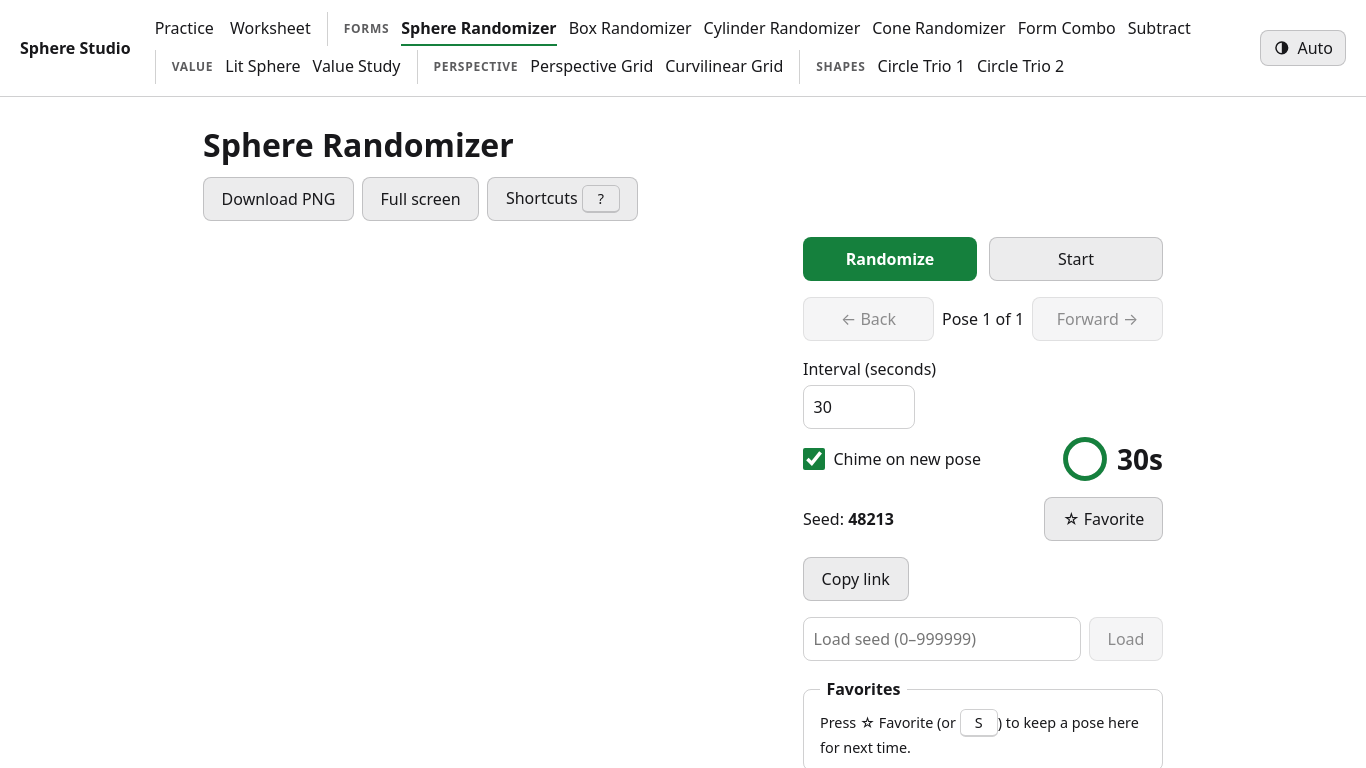
Scenario: pose history › goes back and forward on sphere-randomizer
The width and height of the screenshot is (1366, 768).
Expected: the button "← Back" is disabled, [803,297,934,341]
Expected: the button "Forward →" is disabled, [1032,297,1163,341]
Click the button "Randomize".
click(890, 259)  # box [803,237,977,281]
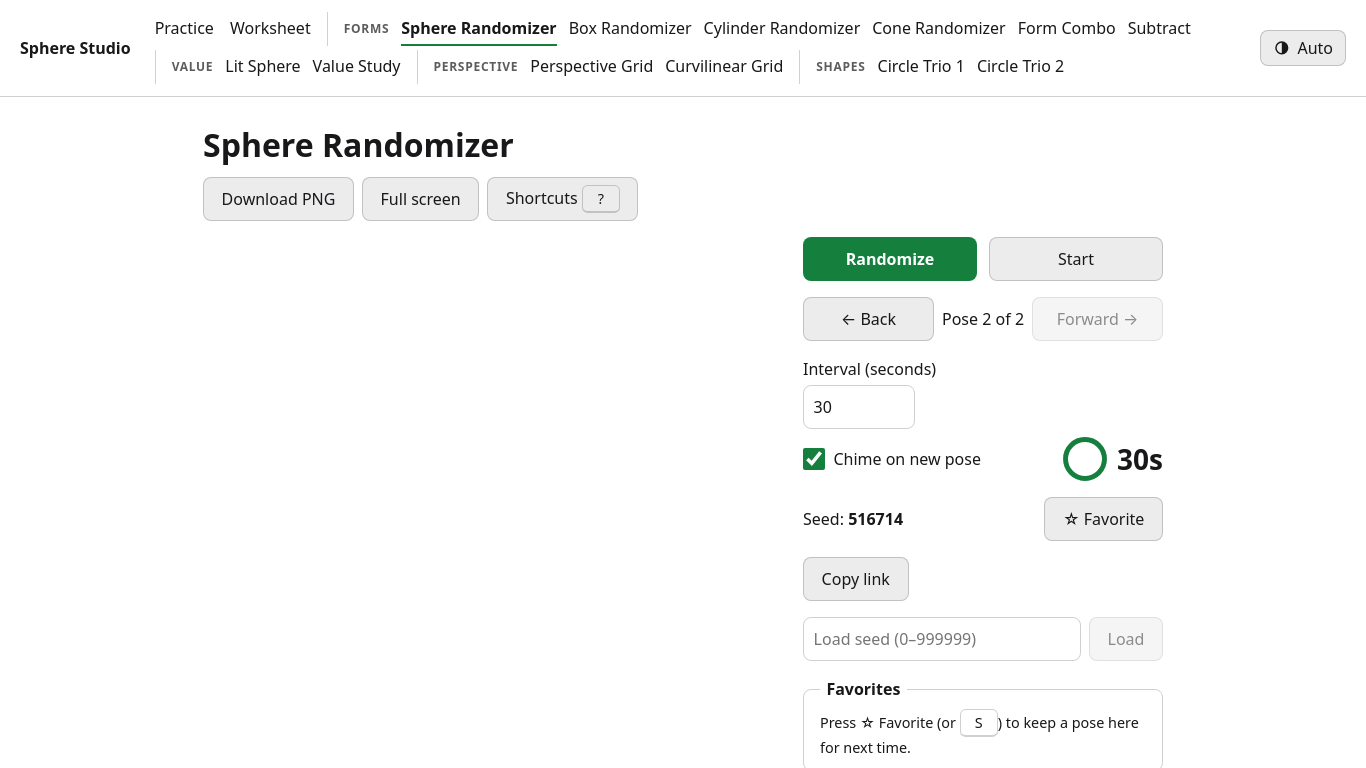
Now the text with class "session-history-position" reads "Pose 2 of 2", box [942,307,1024,331]
Click the button "← Back".
click(868, 319)  # box [803,297,934,341]
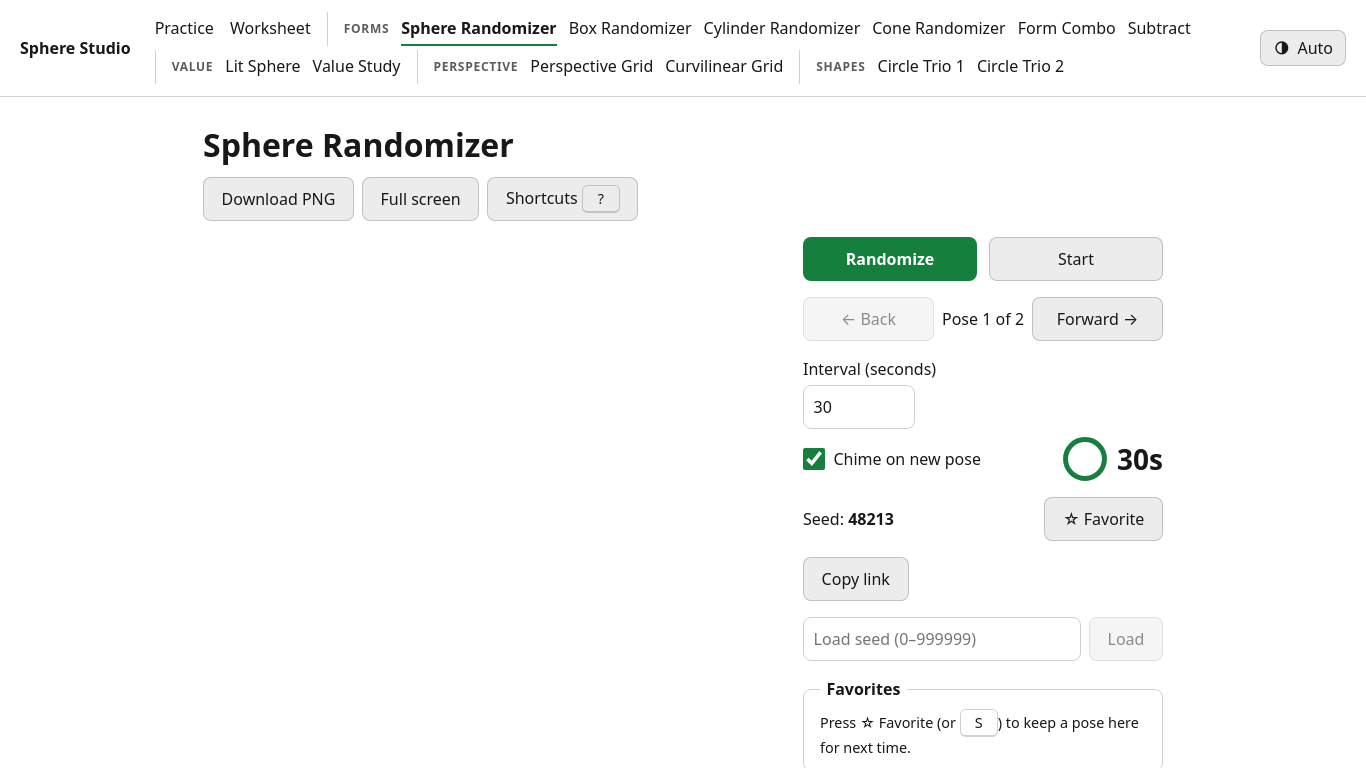
Now the text "Seed: 48213" is shown, box [803,507,894,531]
Now the text with class "session-history-position" reads "Pose 1 of 2", box [942,307,1024,331]
Now the button "← Back" is disabled, box [803,297,934,341]
Click the button "Forward →".
click(1098, 319)  # box [1032,297,1163,341]
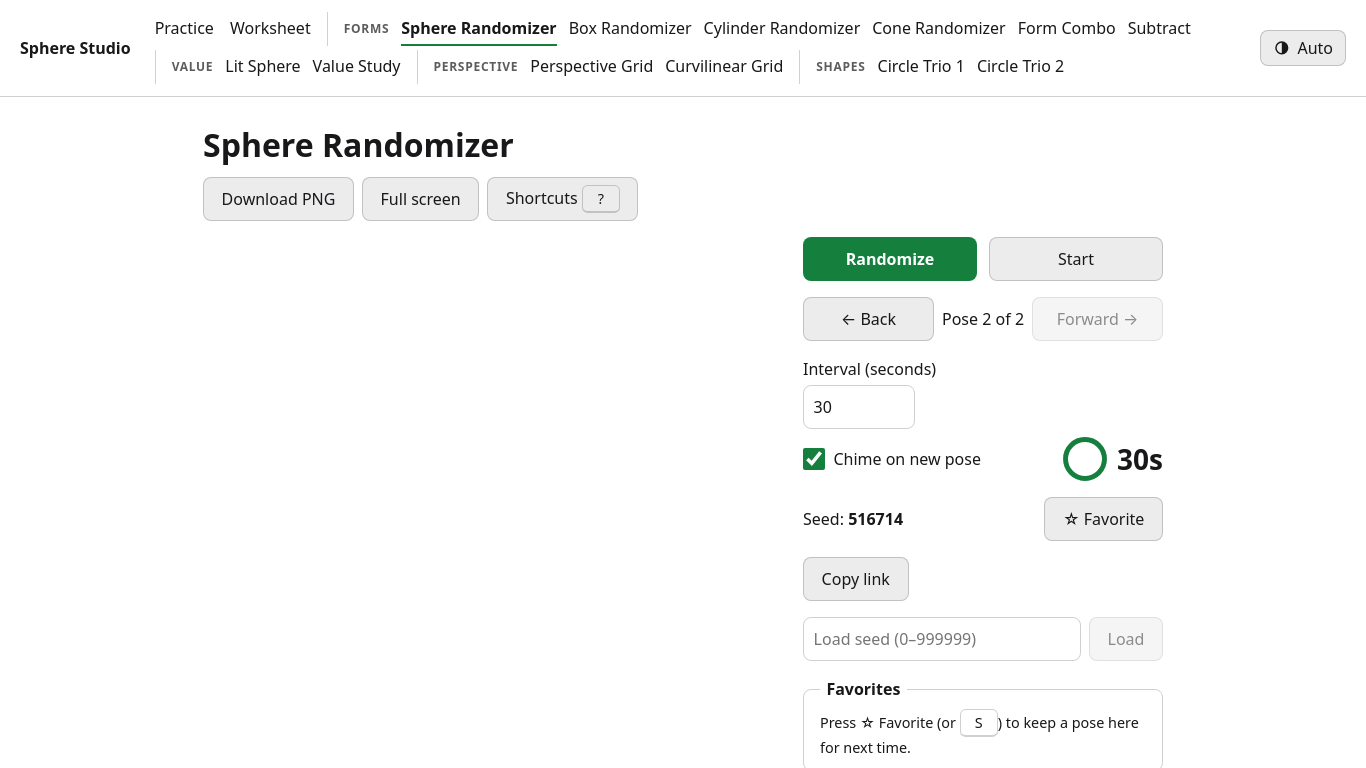
Now the button "Forward →" is disabled, box [1032,297,1163,341]
